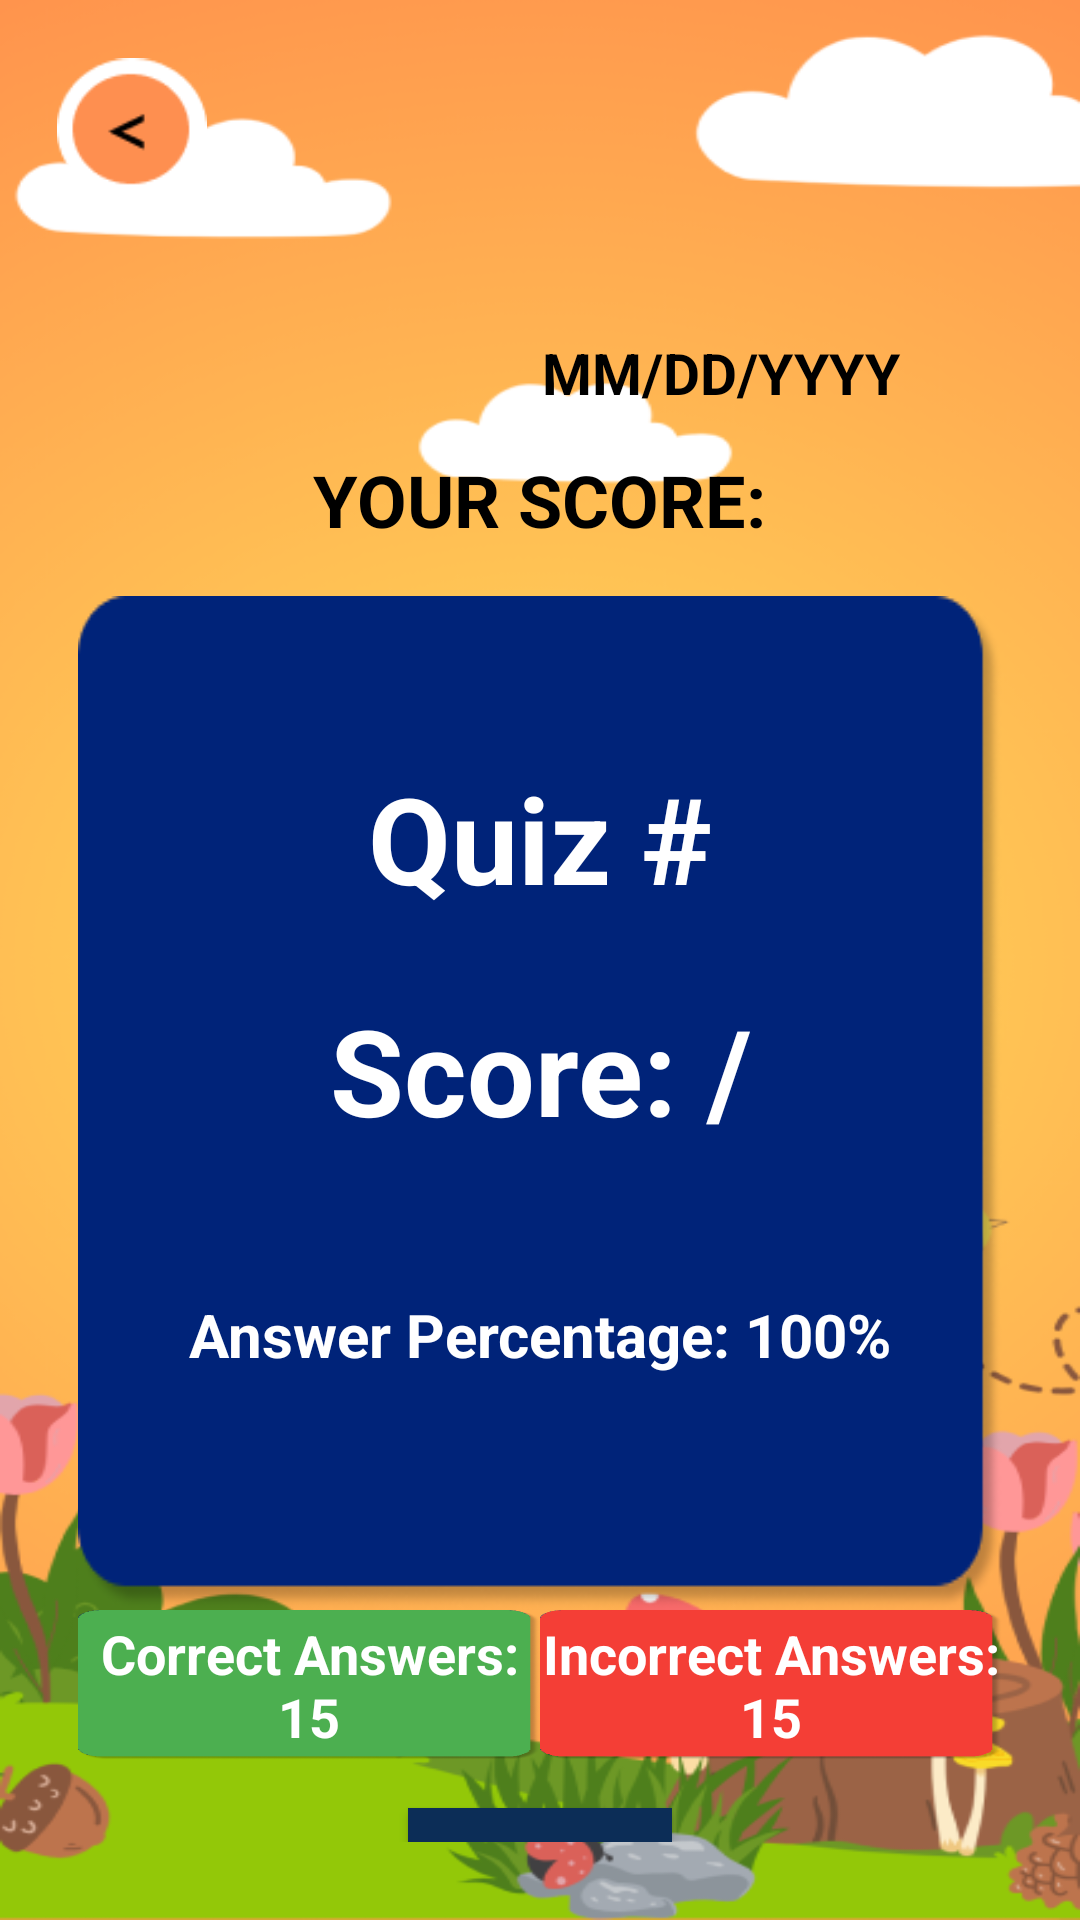

Screen size 1080 × 1920. Icon name, then its center in pixels as [x,y]:
Back: [132,129]
